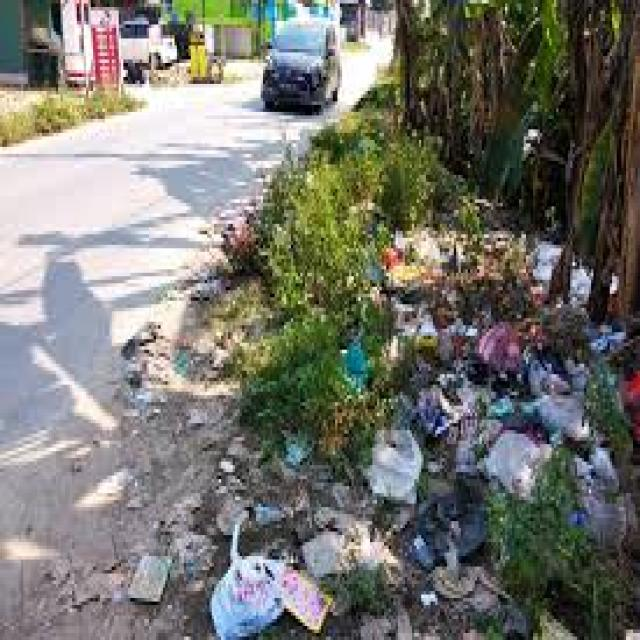trash: (133, 210, 633, 640)
